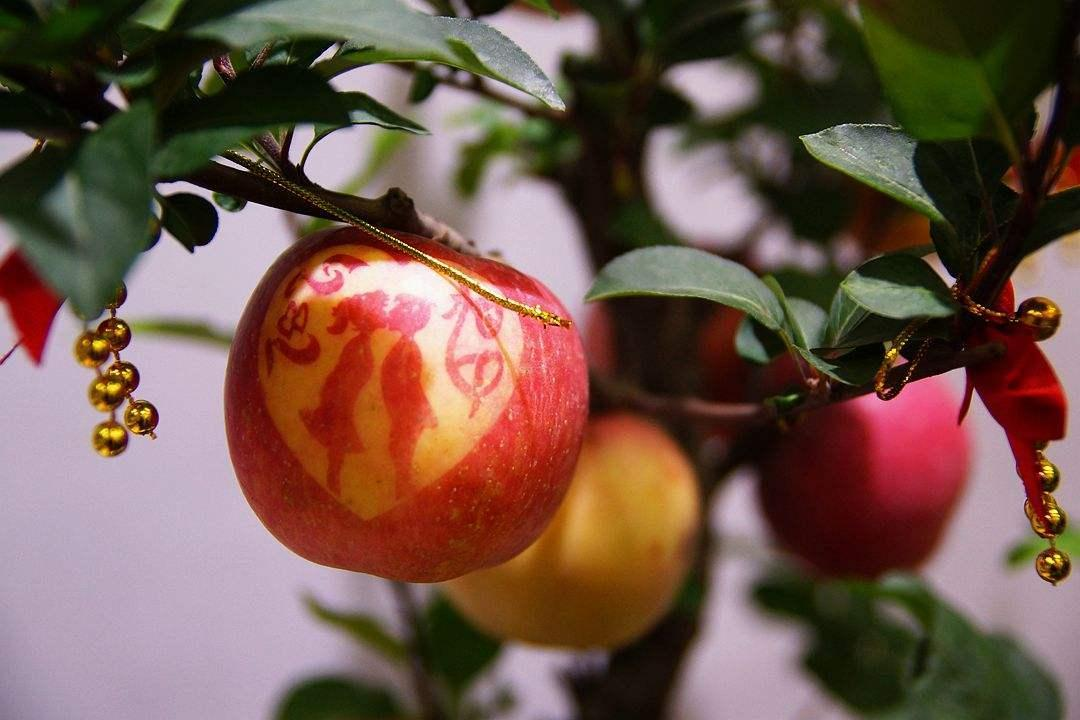apple: (223, 222, 591, 576), (760, 376, 971, 575)
